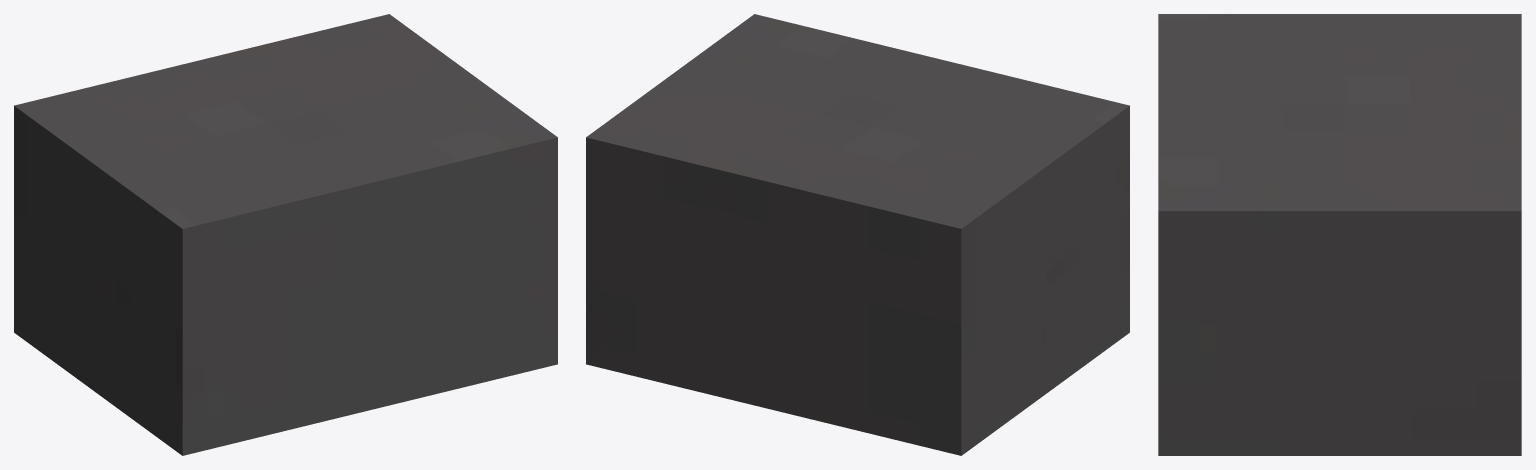
The model's file is rear_support_arm__pop_pin_boss.glb.
3 renders of one model, left to right at view 1: azimuth 30°, elevation 25°; view 2: azimuth 150°, elevation 25°; view 3: azimuth 270°, elevation 25°, orthographic. The views are drawn at different scales.
Visible parts, largest first — view 1: world; view 2: world; view 3: world.
Part boxes in pixels (left/top/right/bottom): world: left=14, top=14, right=557, bottom=455; world: left=586, top=14, right=1129, bottom=455; world: left=1158, top=14, right=1521, bottom=455.
Size of the model in its own units: 0.09 by 0.052 by 0.07.
1 material, 1 textured.
